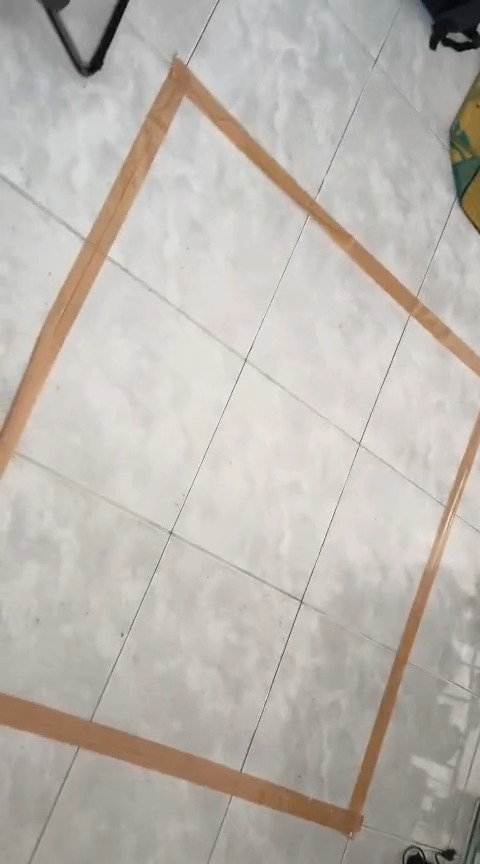floor marking: (0, 415, 479, 836), (0, 59, 479, 474)
